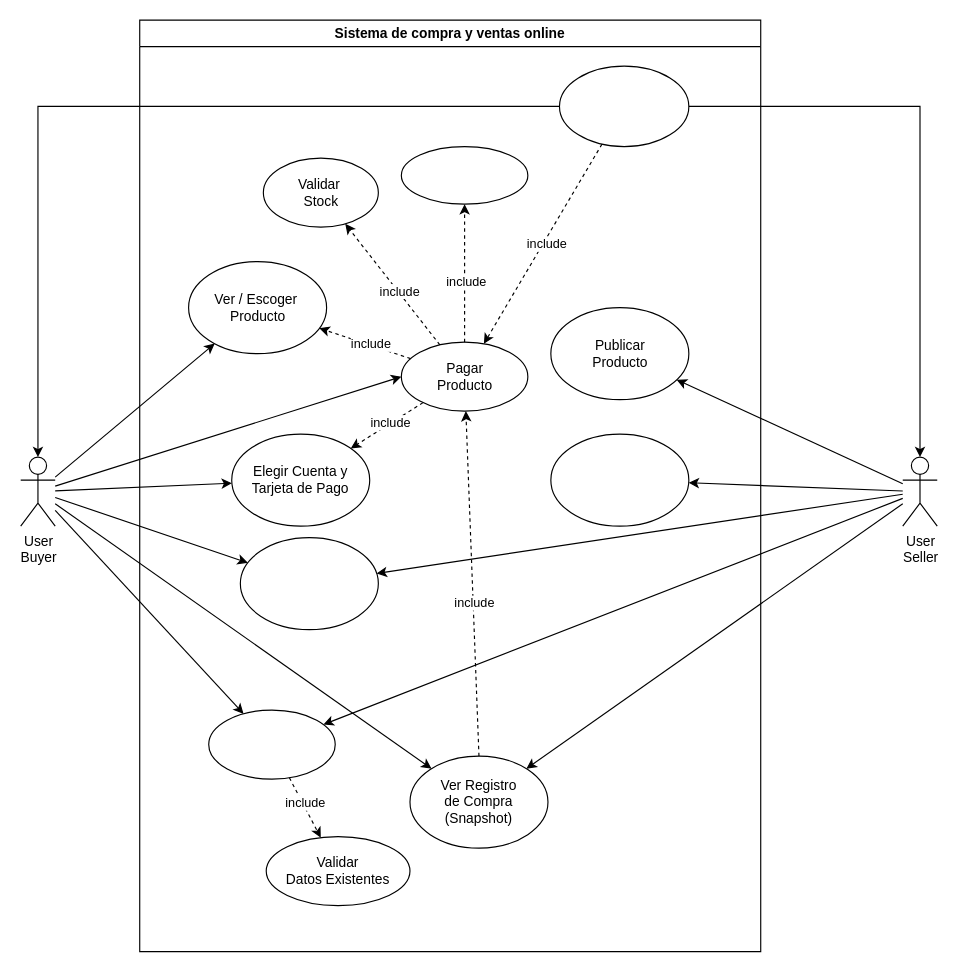
Image size: 957x972. Some labels were removed from this diagram. The centre of each missing label's shape, as x and y in pixels:
"Generar Movimiento" goes at [623,106].
"Iniciar Sesión" goes at [271,744].
"Modificar Datos Personales" goes at [308,583].
"Modificar Producto" goes at [619,479].
"Validar Saldo" goes at [464,174].
